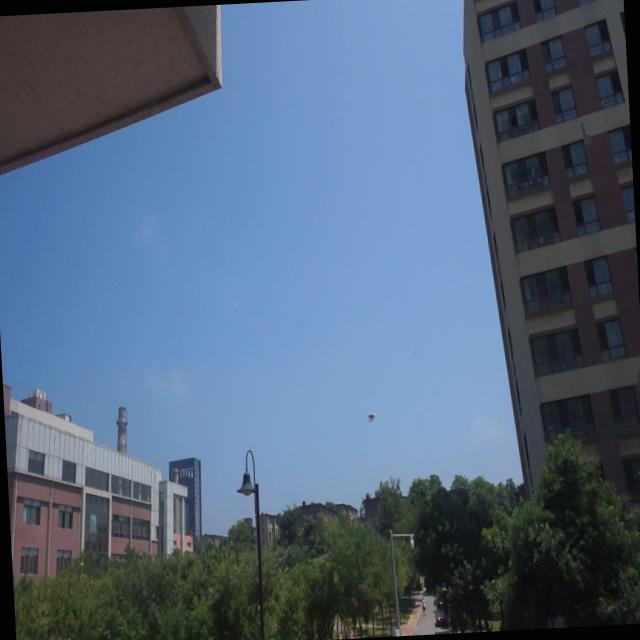drone: (364, 408, 378, 426)
